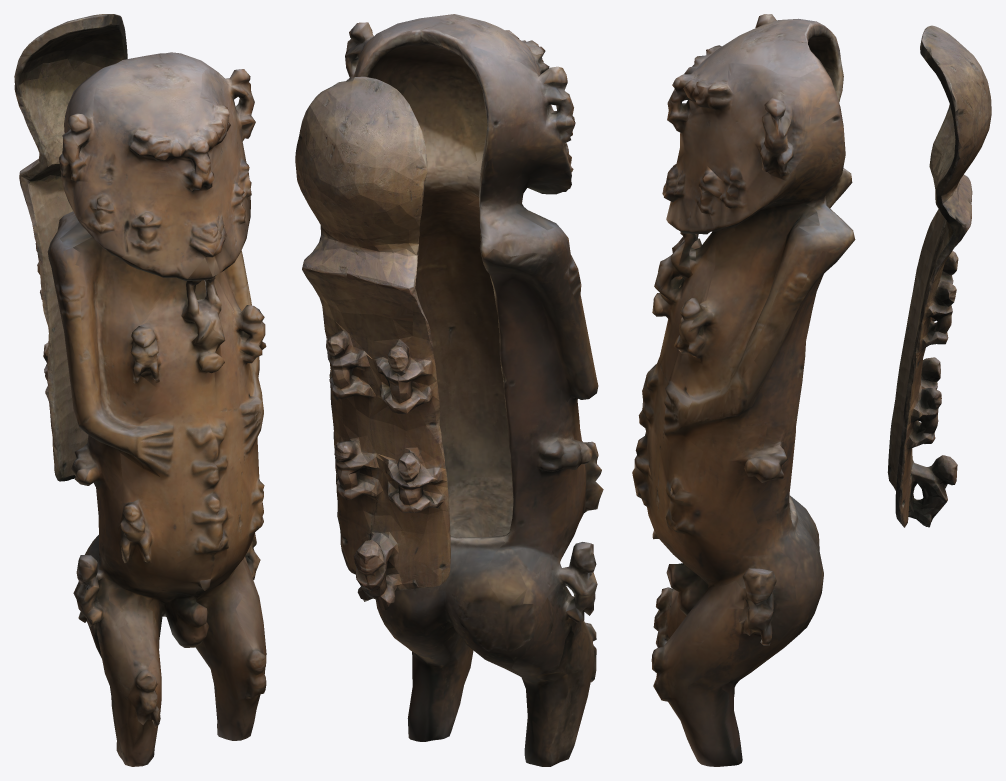
3 views of the same model, side by side, from view 1: azimuth 30°, elevation 25°; view 2: azimuth 150°, elevation 25°; view 3: azimuth 270°, elevation 25° (orthographic). The views are drawn at different scales.
Visible parts, largest first — view 1: Aa-Body, Aa-back; view 2: Aa-Body, Aa-back; view 3: Aa-Body, Aa-back.
Boxes of the visible parts, <box> form: Aa-Body: <box>47,52,266,766</box>; Aa-back: <box>14,14,127,481</box>; Aa-Body: <box>345,14,603,766</box>; Aa-back: <box>295,76,450,610</box>; Aa-Body: <box>632,14,855,766</box>; Aa-back: <box>887,25,991,527</box>.
Bounding box in the file's own units: 0.743 × 2.38 × 1.1.
Materials: 3 (3 with a texture image).
